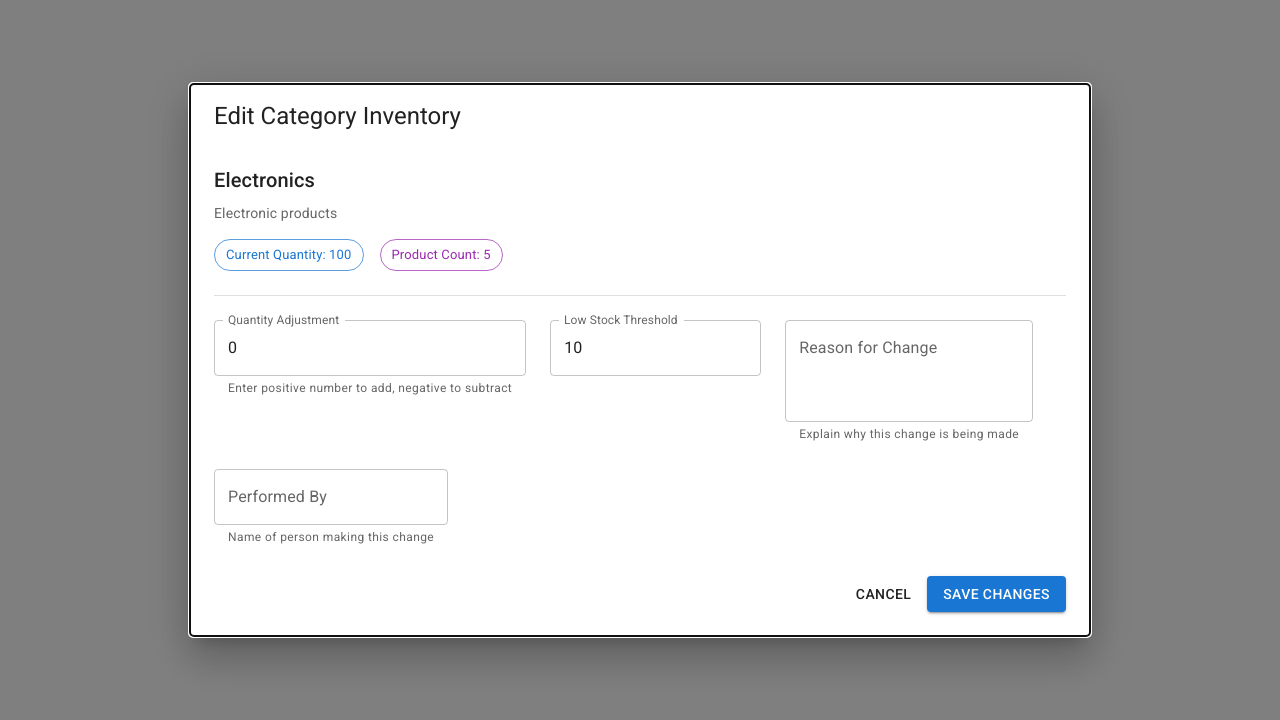
CategoryInventoryEditModal › form validation › should show error for invalid quantity adjustment
Replace the text in the field labelled "Quantity Adjustment" with "invalid" at (370,348), box [214, 320, 526, 376]
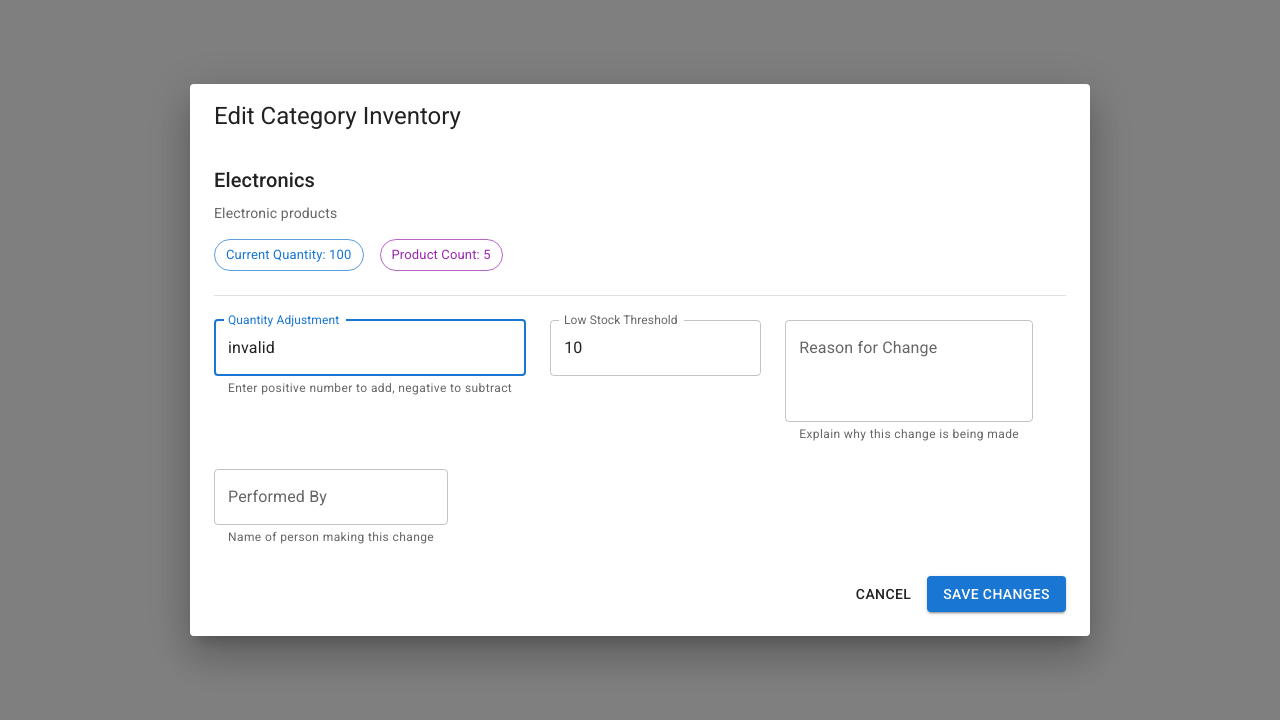
Click the button "Save Changes" at (997,594), box [927, 576, 1066, 612]
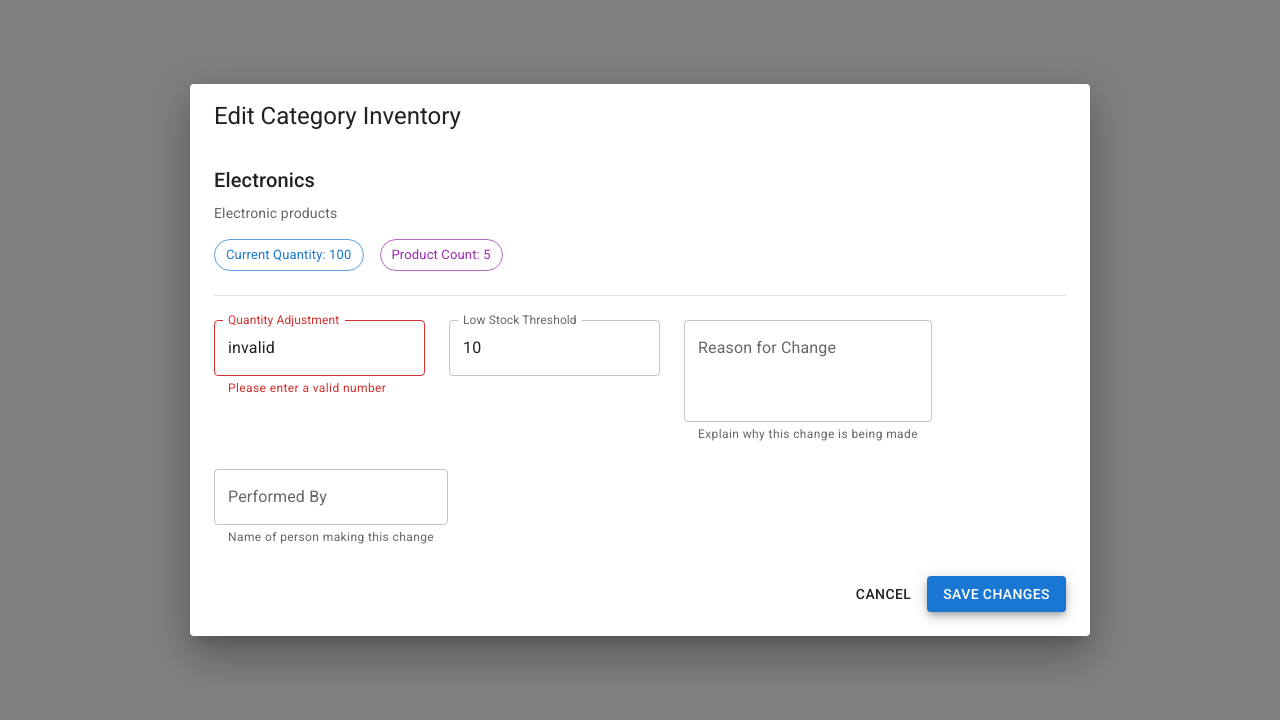
Expected: the text "Please enter a valid number" is shown, [228, 379, 411, 399]
